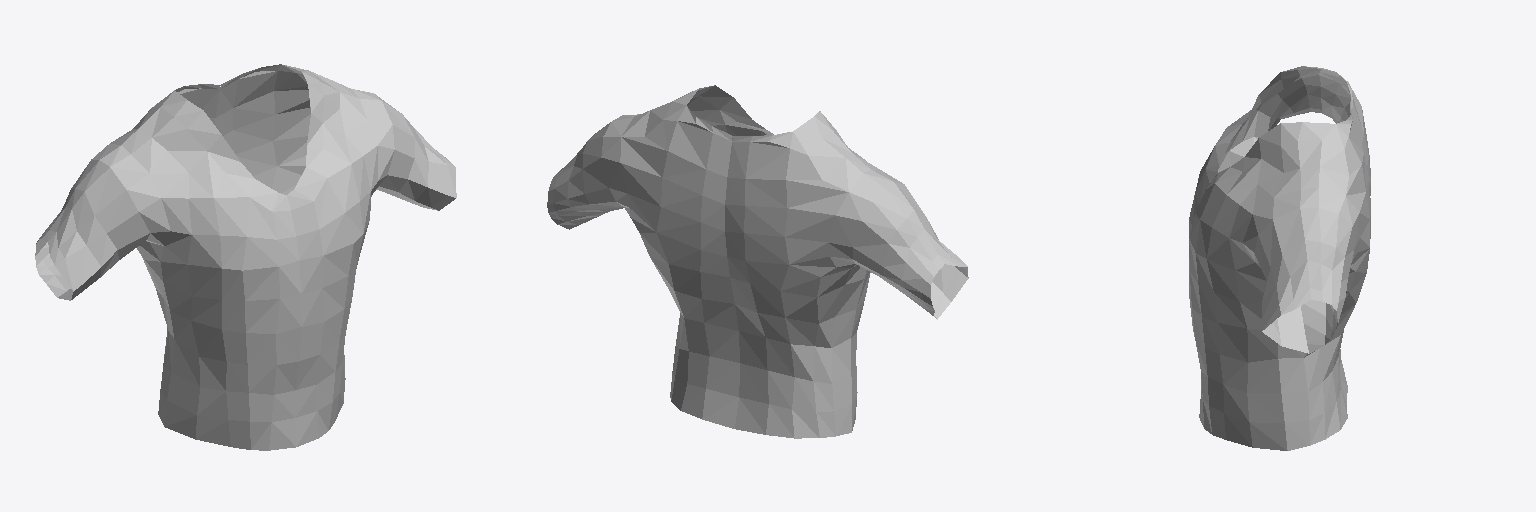
The model's file is tshirt_mia.obj.
3 renders of one model, left to right at view 1: azimuth 30°, elevation 25°; view 2: azimuth 150°, elevation 25°; view 3: azimuth 270°, elevation 25°, orthographic.
Visible parts, largest first — view 1: Plane_Plane.004; view 2: Plane_Plane.004; view 3: Plane_Plane.004.
Part boxes in pixels (left/top/right/bottom): Plane_Plane.004: left=35, top=64, right=456, bottom=450; Plane_Plane.004: left=547, top=85, right=968, bottom=438; Plane_Plane.004: left=1189, top=66, right=1370, bottom=450.
Bounding box in the file's own units: 2.29 × 1.76 × 0.8992.